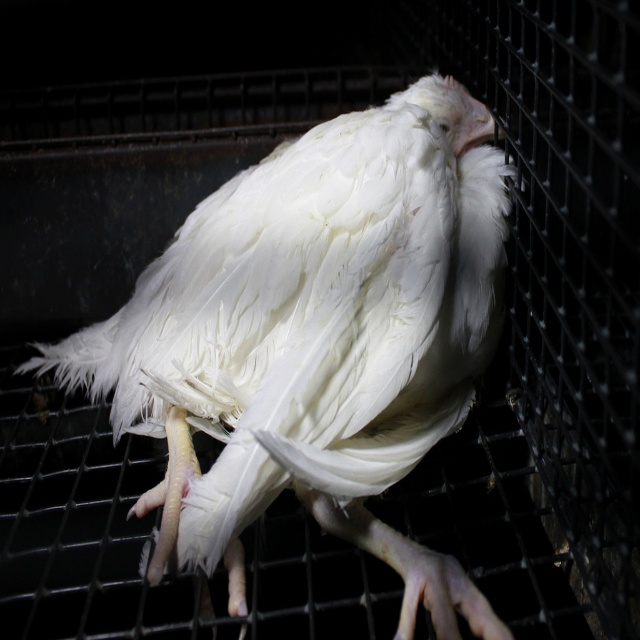Chicken: (18, 70, 513, 639)
